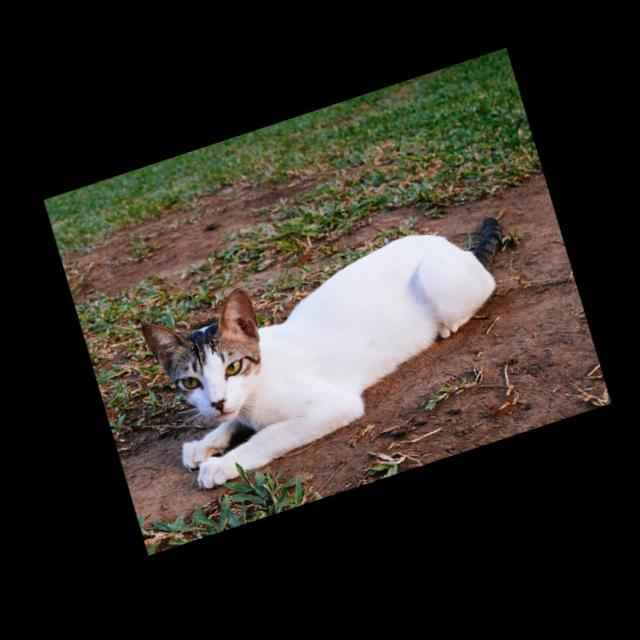animals: (135, 209, 543, 499)
